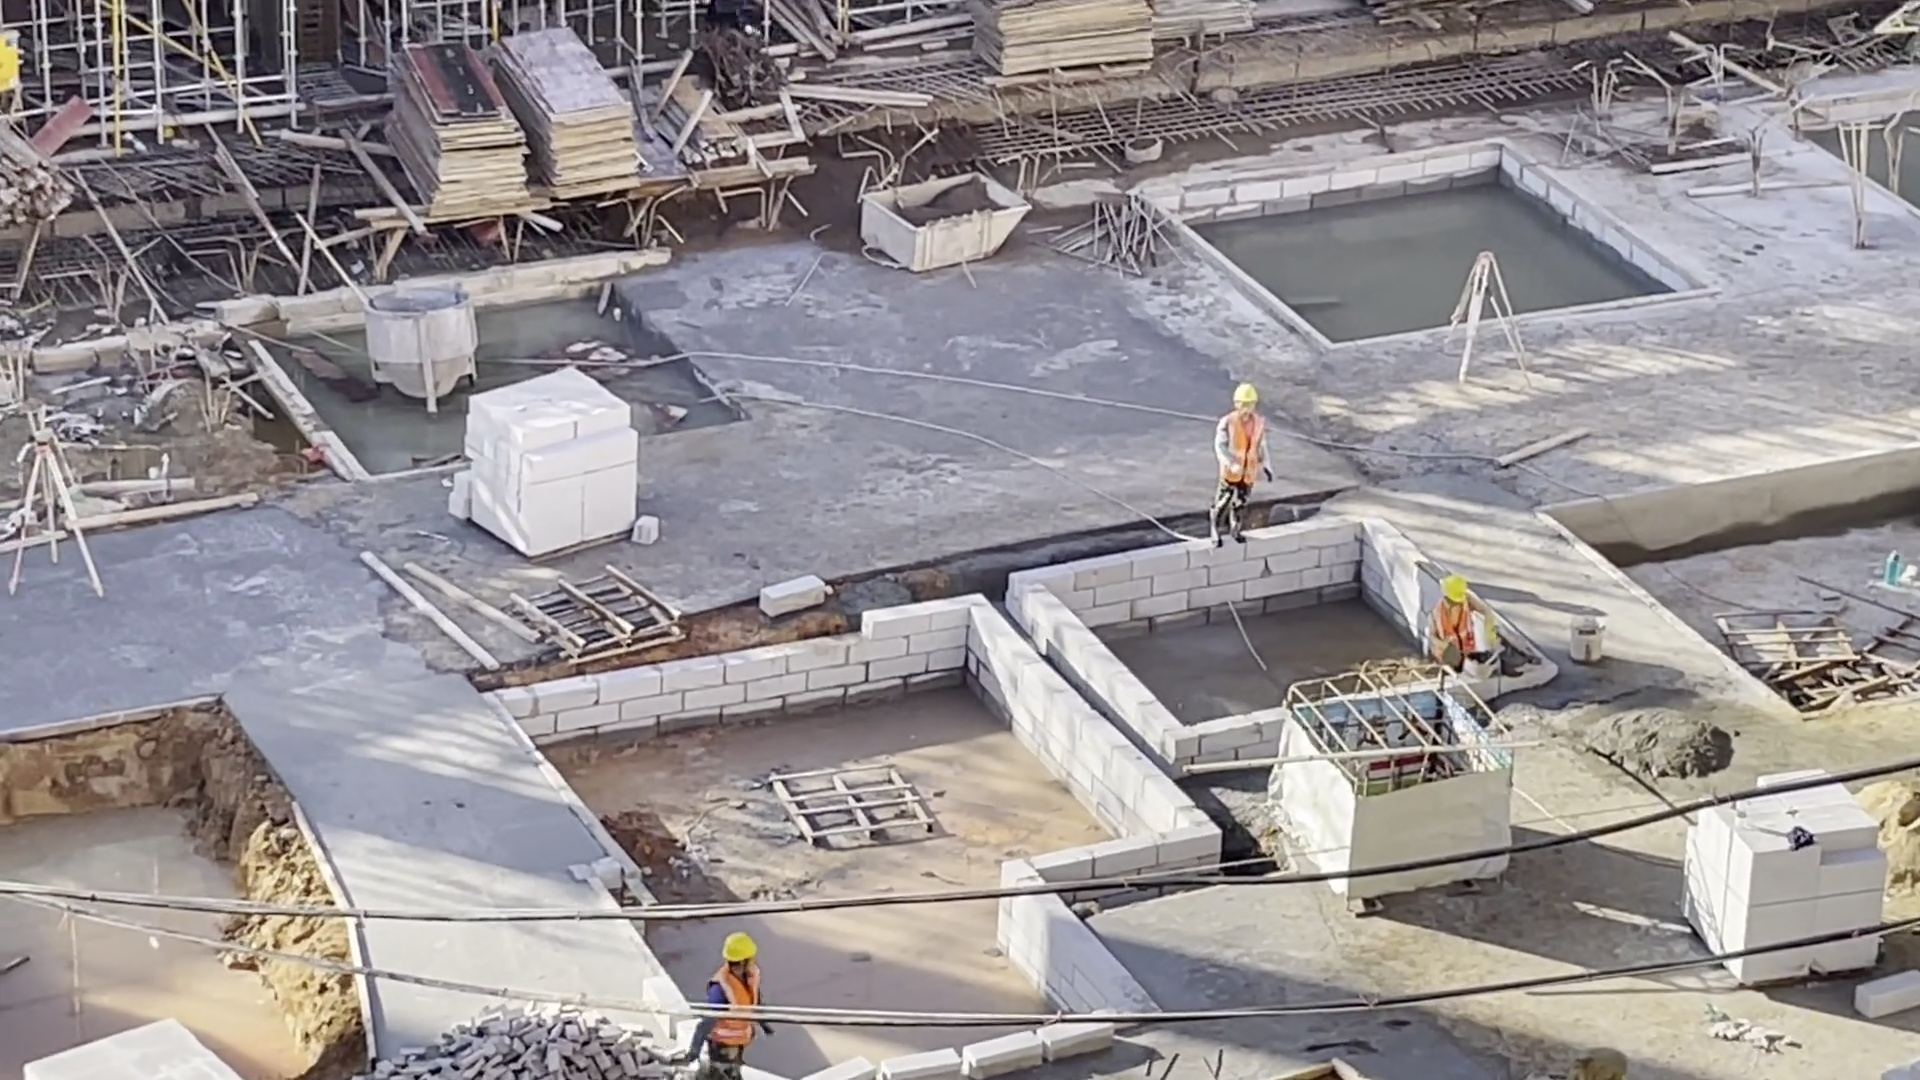board: (370, 41, 537, 223), (486, 24, 645, 204), (955, 1, 1159, 86)
brick: (465, 360, 639, 558), (1673, 815, 1894, 928)
ebox: (1, 23, 26, 101)
helmet: (722, 931, 760, 963), (1437, 576, 1471, 603), (1230, 383, 1260, 406)
hopper: (858, 168, 1039, 268), (363, 283, 477, 415)
person: (1213, 381, 1275, 547), (1425, 573, 1499, 672), (701, 927, 764, 1004)
vest: (1220, 410, 1263, 490), (1431, 602, 1477, 657), (710, 965, 763, 1005)
wood: (2, 124, 80, 238)
